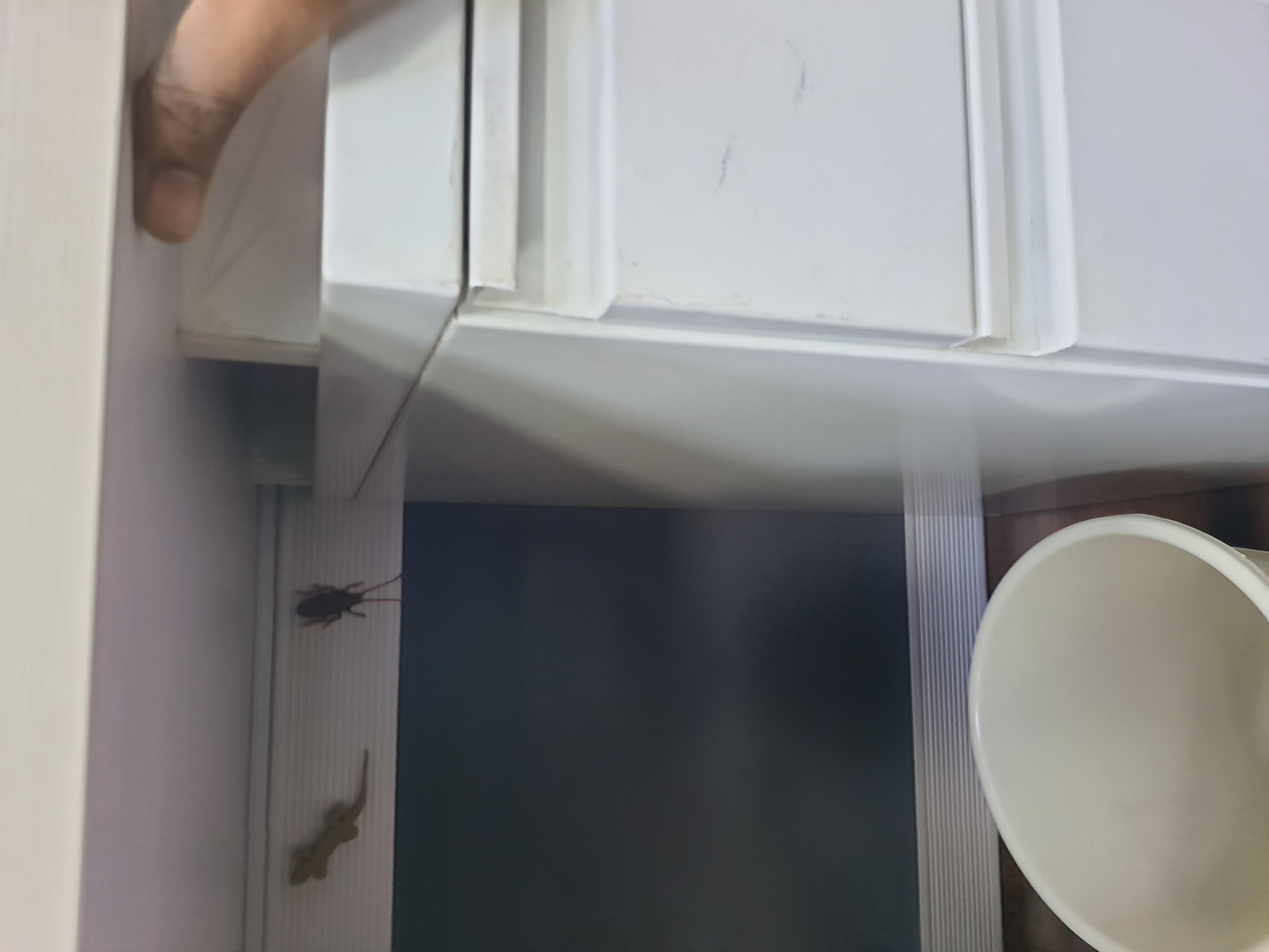cockroach: (427, 213, 516, 311)
lizard: (63, 203, 277, 286)
